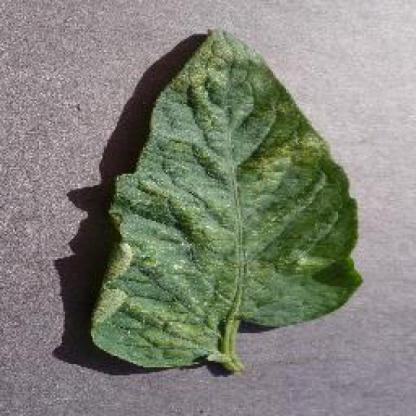Tomato_Spider_Mites: (91, 28, 363, 365)
